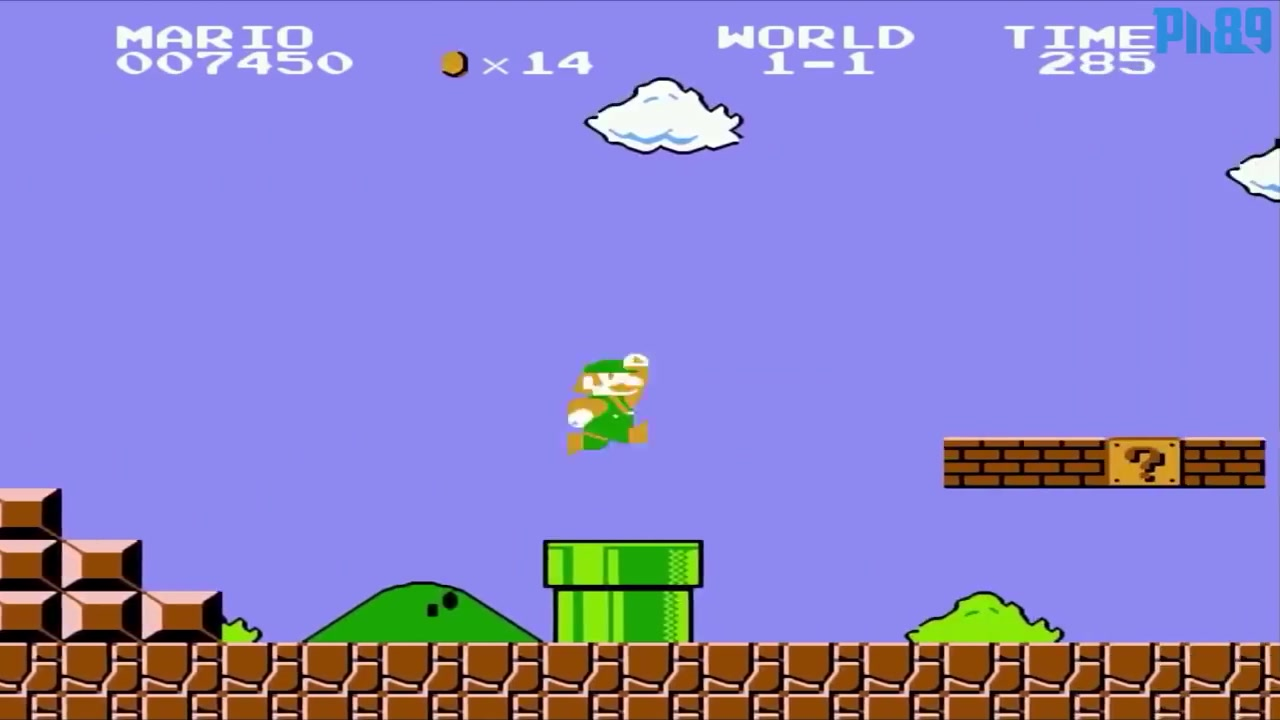mario: (557, 347, 682, 464)
